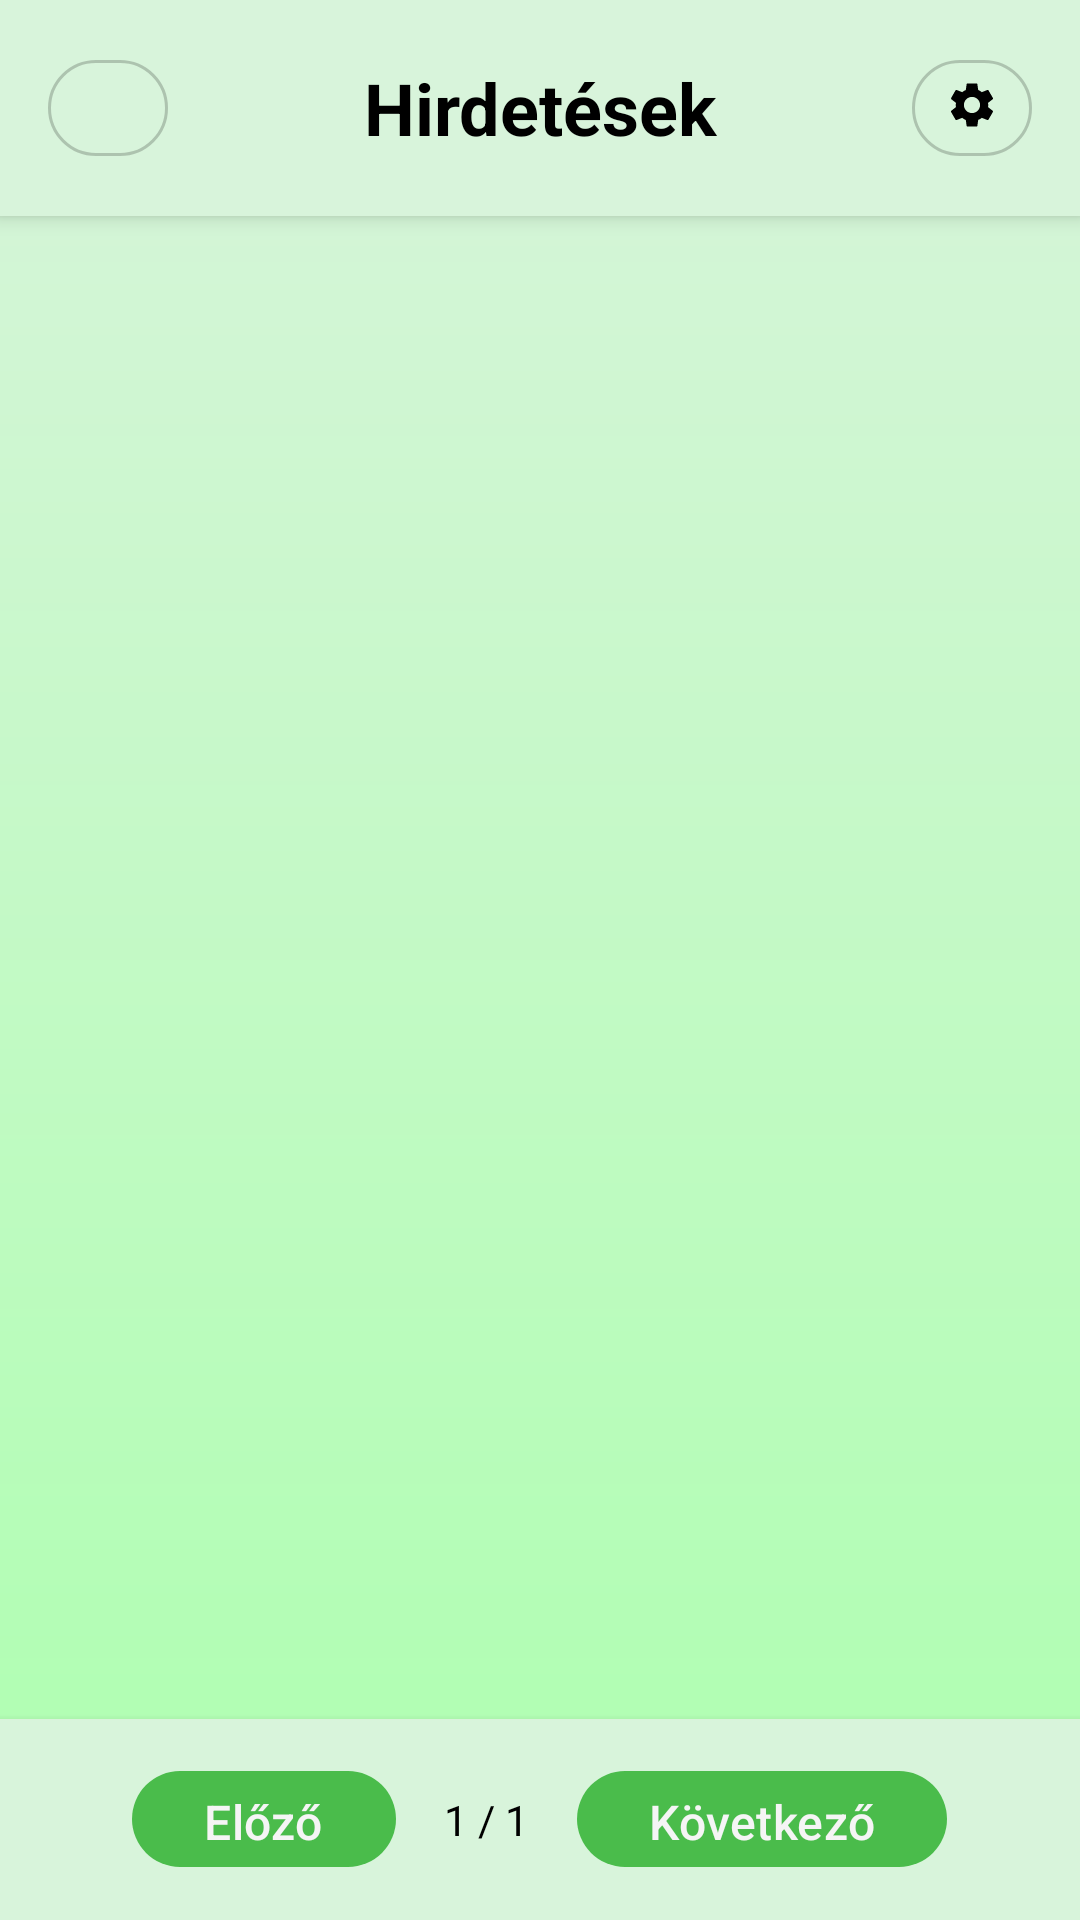

Where icons sit on this 1080 x 1920 app screen, as BBox(x1, y1, x2, y2):
settings: BBox(912, 60, 1032, 156)
